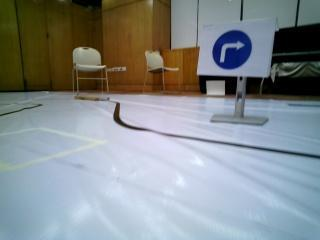right: (205, 20, 262, 76)
